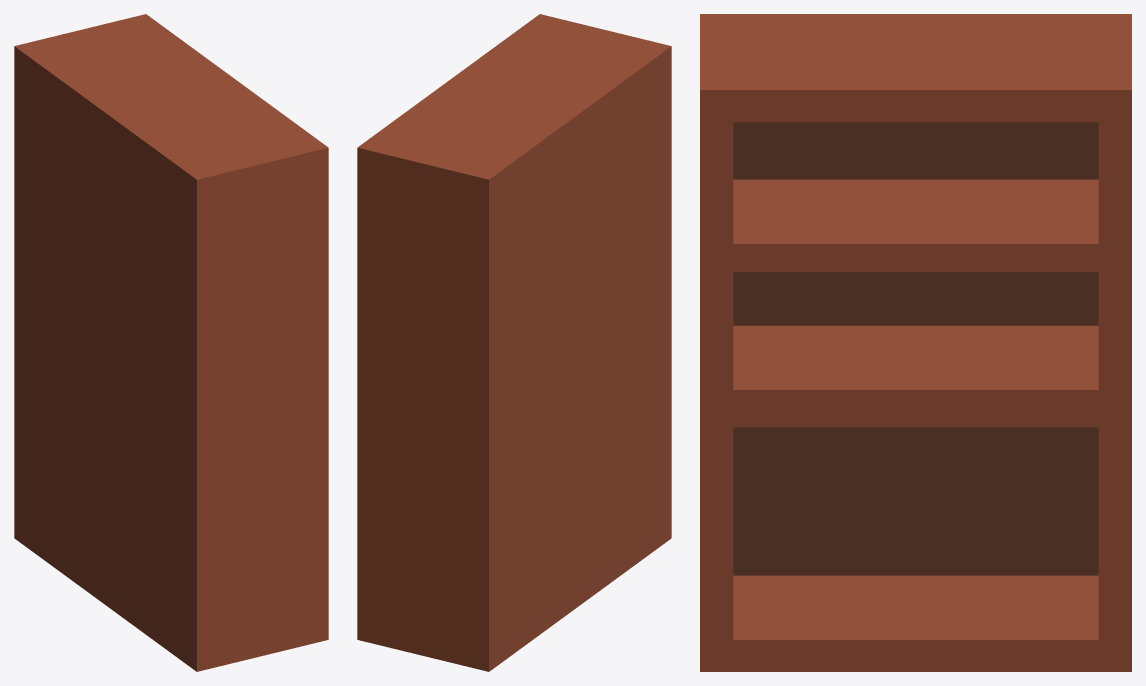
Rendered from cabinet.fbx.
The picture shows the model from 3 angles, left to right: view 1: azimuth 30°, elevation 25°; view 2: azimuth 150°, elevation 25°; view 3: azimuth 270°, elevation 25°; orthographic projection. The views are drawn at different scales.
Visible parts, largest first — view 1: pCube1; view 2: pCube1; view 3: pCube1.
Boxes of the visible parts, bbox=[...] form: pCube1: bbox=[14, 14, 328, 671]; pCube1: bbox=[357, 14, 671, 671]; pCube1: bbox=[700, 14, 1131, 671].
Bounding box in the file's own units: 6.25 × 22.31 × 15.
Materials: 1 (1 with a texture image).
